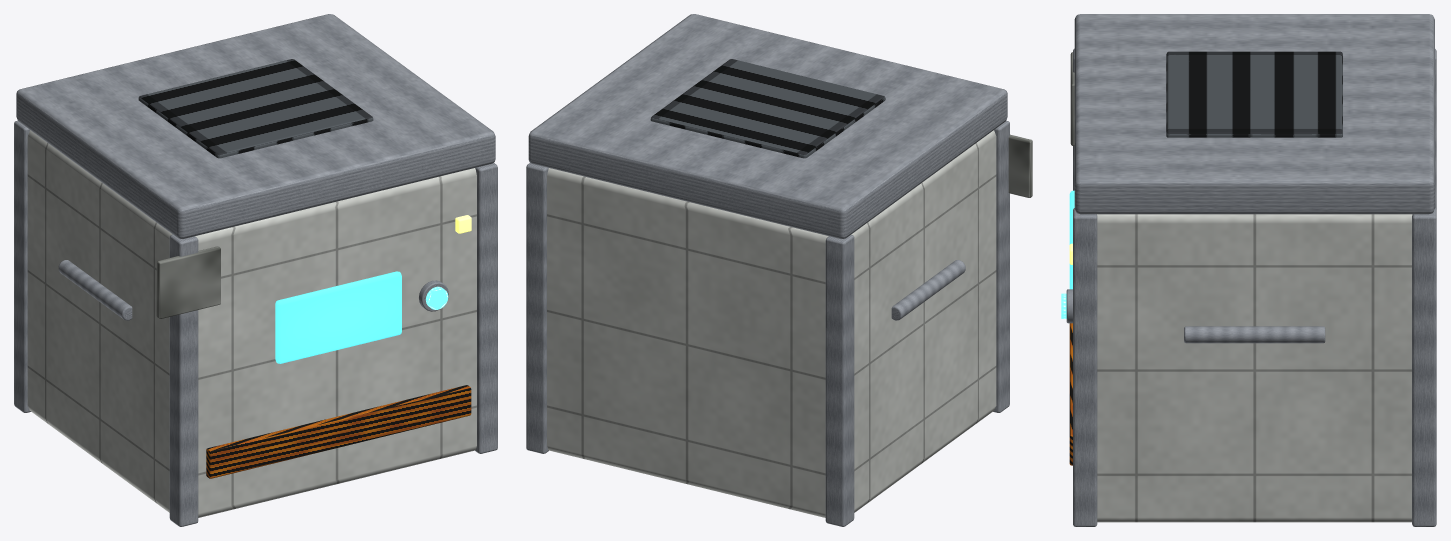
File: room_l1_img2_utility_crate.glb
3 renders of one model, left to right at view 1: azimuth 30°, elevation 25°; view 2: azimuth 150°, elevation 25°; view 3: azimuth 270°, elevation 25°, orthographic. The views are drawn at different scales.
Parts seen in each view (by area): view 1: crate_body, lid_steel, lid_vent, hazard_band_front, front_diagnostic_screen, corner_brace_v_0, corner_brace_v_1, corner_brace_v_2, grime_corner_patch, side_handle_0; view 2: crate_body, lid_steel, lid_vent, corner_brace_v_2, corner_brace_v_3, corner_brace_v_0, grime_corner_patch, side_handle_0; view 3: crate_body, lid_steel, lid_vent, corner_brace_v_3, corner_brace_v_1, side_handle_1, hazard_band_front.
Part boxes in pixels (x1,y1,x2,y2): crate_body: [27, 130, 476, 517]; lid_steel: [16, 14, 495, 238]; lid_vent: [138, 59, 373, 158]; hazard_band_front: [206, 385, 471, 478]; front_diagnostic_screen: [275, 271, 401, 363]; corner_brace_v_0: [169, 234, 198, 526]; corner_brace_v_1: [475, 163, 497, 453]; corner_brace_v_2: [14, 120, 30, 412]; grime_corner_patch: [156, 246, 220, 318]; side_handle_0: [58, 260, 132, 320]; crate_body: [547, 130, 996, 517]; lid_steel: [528, 14, 1007, 238]; lid_vent: [650, 59, 885, 158]; corner_brace_v_2: [825, 234, 854, 526]; corner_brace_v_3: [526, 162, 548, 453]; corner_brace_v_0: [993, 120, 1009, 412]; grime_corner_patch: [1008, 134, 1032, 197]; side_handle_0: [891, 260, 965, 320]; crate_body: [1097, 214, 1412, 522]; lid_steel: [1074, 14, 1434, 214]; lid_vent: [1166, 51, 1342, 137]; corner_brace_v_3: [1412, 208, 1436, 526]; corner_brace_v_1: [1073, 208, 1097, 526]; side_handle_1: [1184, 326, 1325, 343]; hazard_band_front: [1069, 323, 1072, 465].
Bounding box in the file's own units: 0.8891 × 0.79 × 0.7646.
8 materials, 7 textured.
